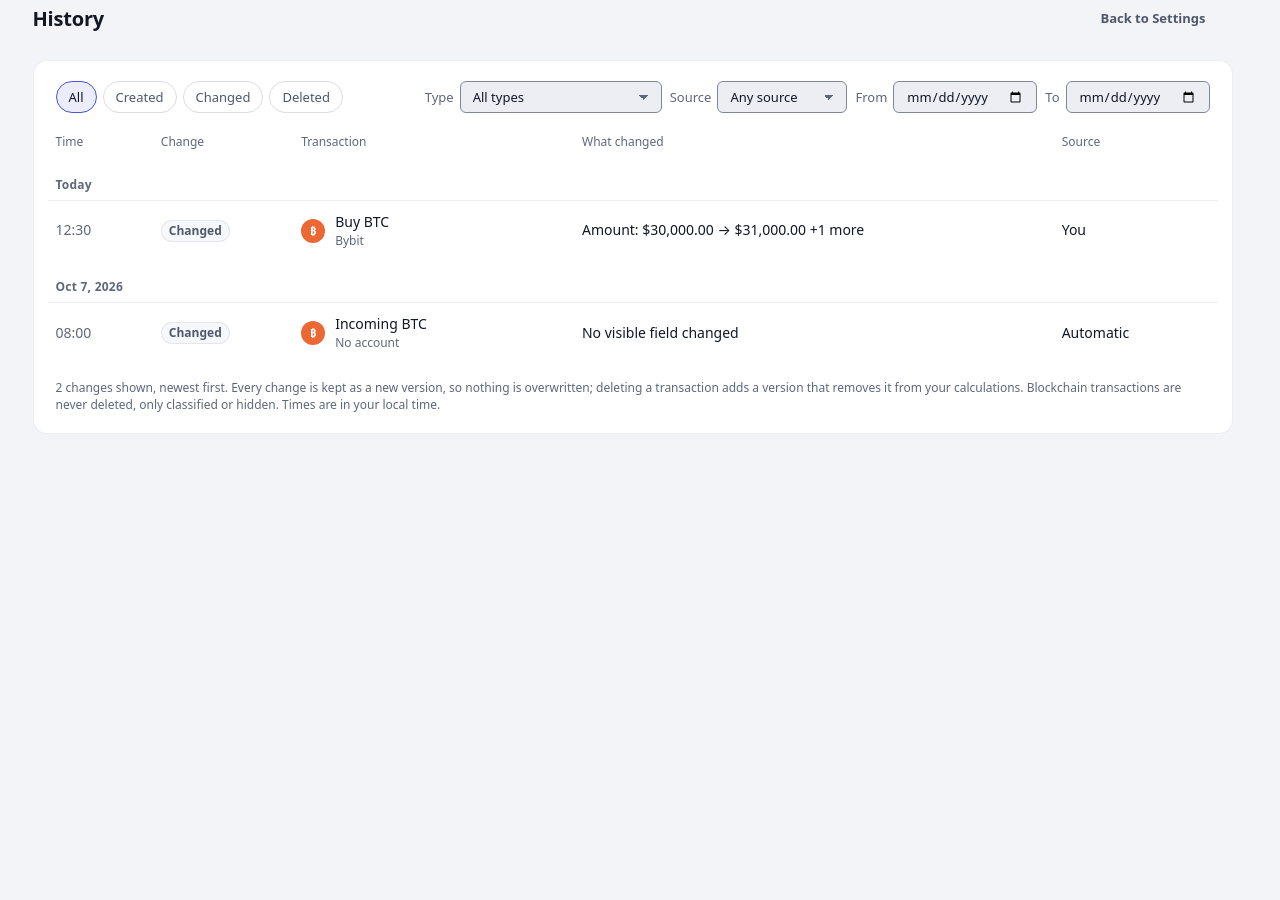
Scenario: audit history screen (BR 14) › HIST-DRAWER: opening a row shows every value before and after, and Escape closes it
Click the button "Buy BTC": (362, 222) [335,212,389,232]
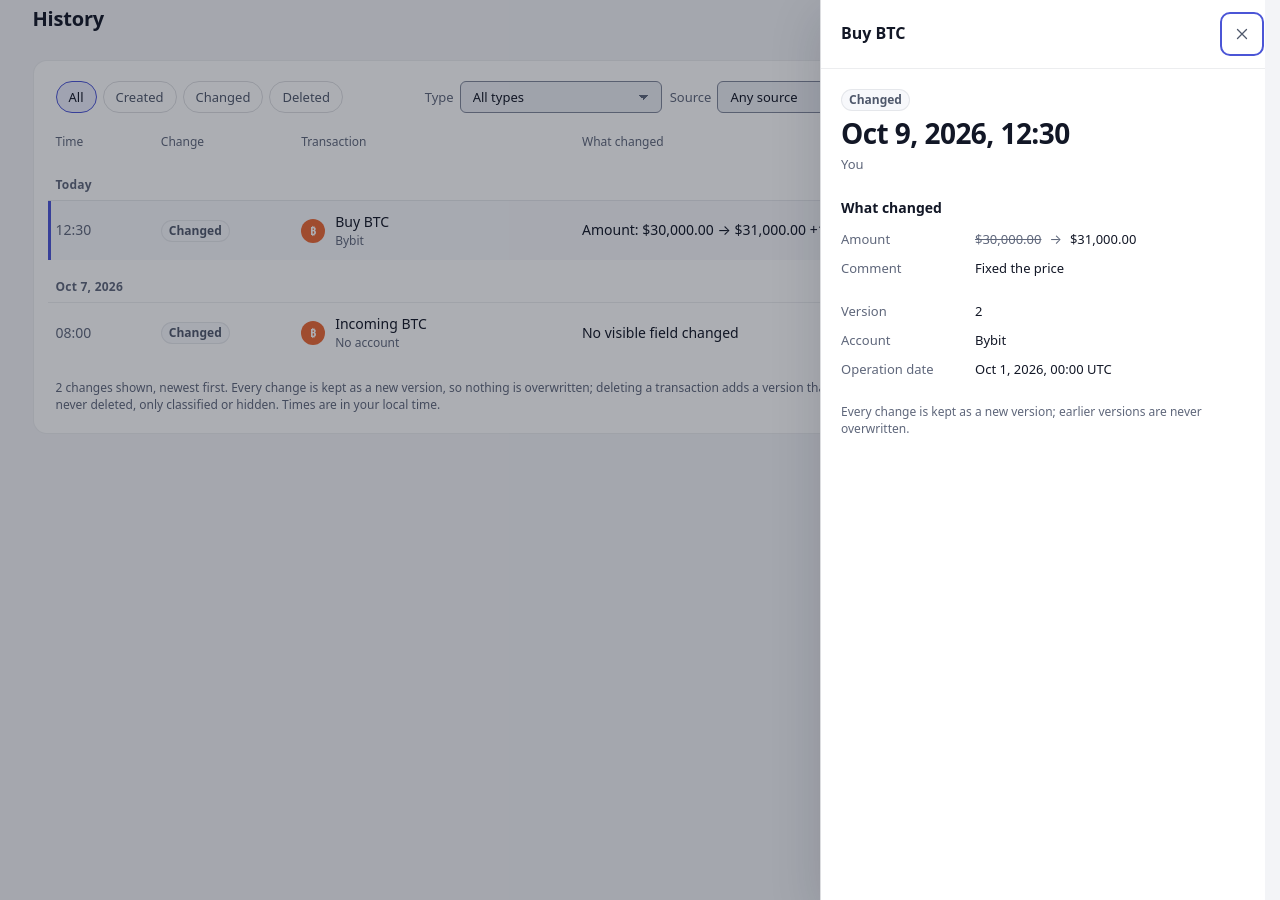
Expected: the text "Changed" is shown, [841,89,910,111]
Expected: the text "2" is shown, [975,302,982,320]
Expected: the text "Bybit" is shown, [975,331,1006,349]
Press Escape
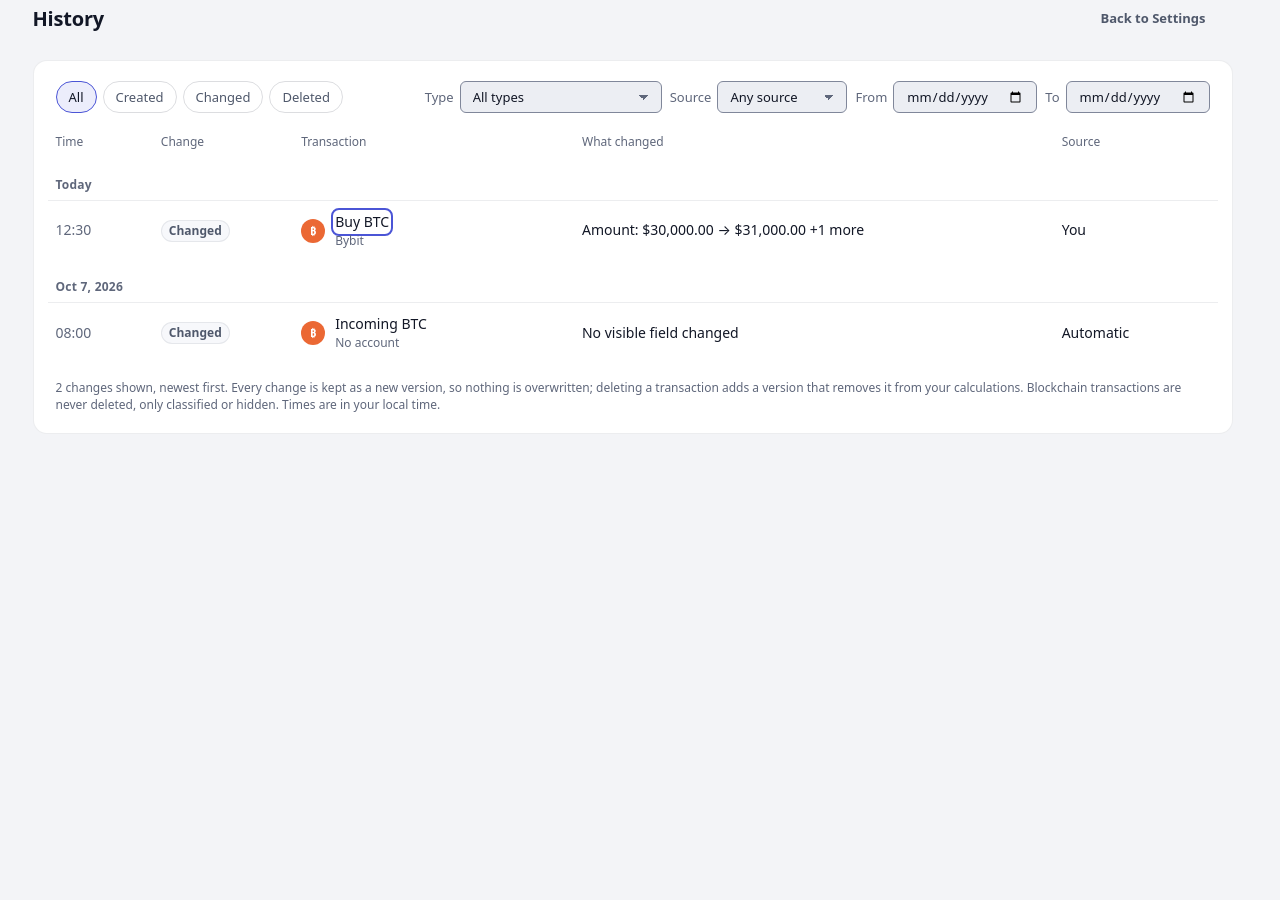
Expected: the dialog is gone
// A version that differs in nothing the screen shows says so instead of an empty list.
Click the button "Incoming BTC": (381, 324) [335,314,427,334]
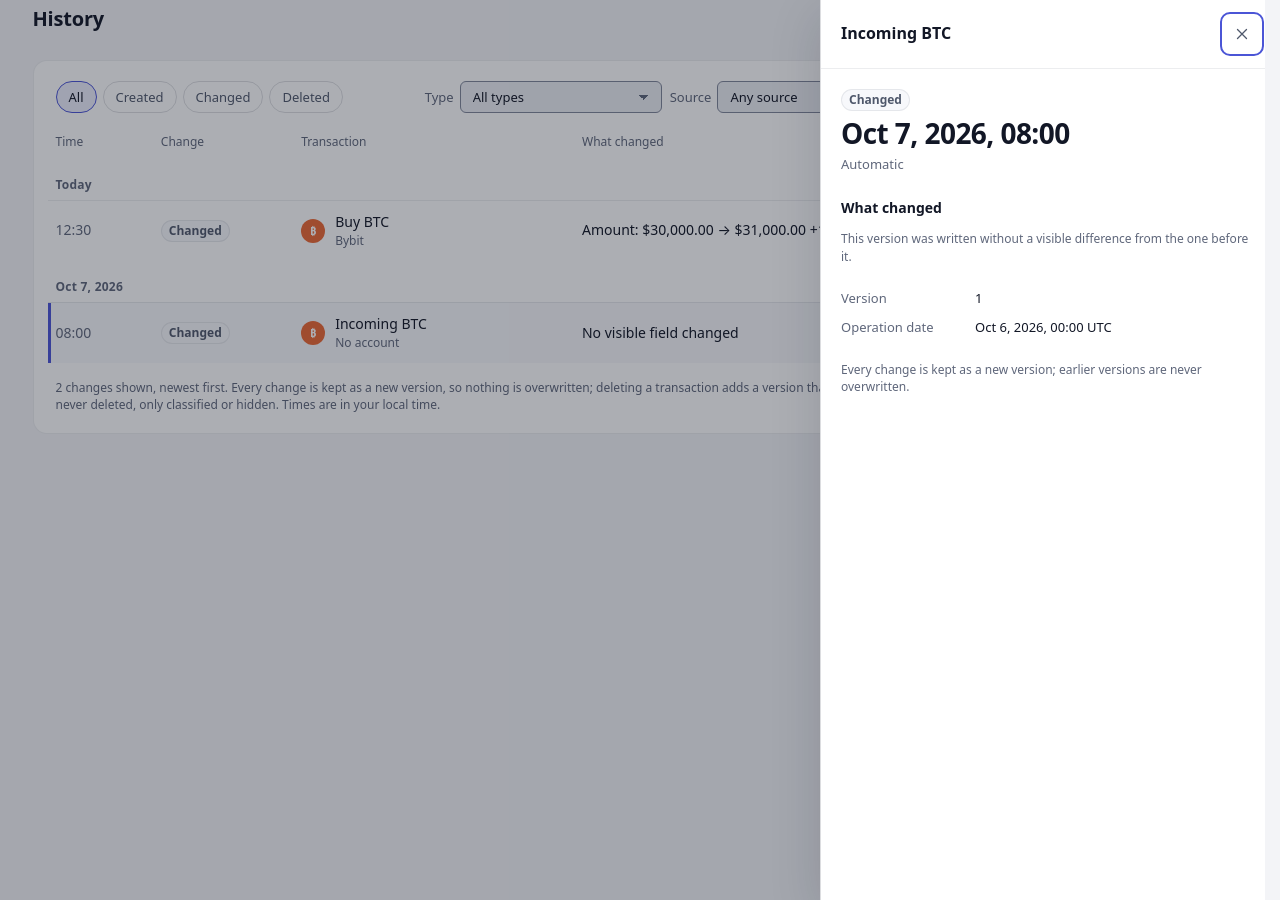
Expected: the text "without a visible difference" is shown, [841,230,1248,265]
